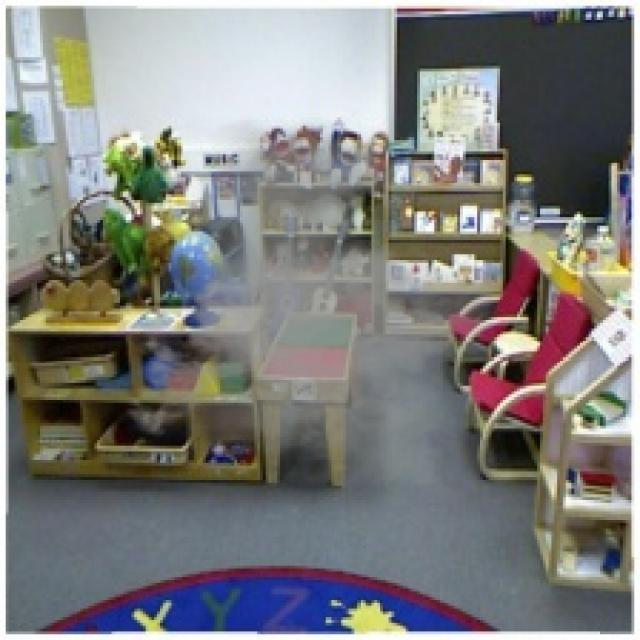smoke: (114, 117, 514, 486)
